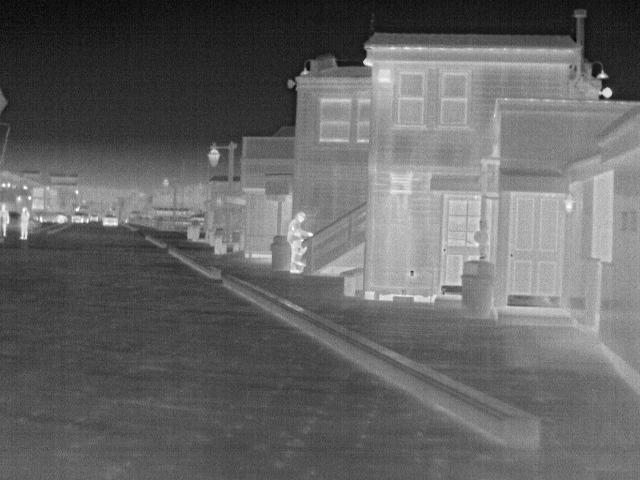car: (32, 208, 68, 226), (69, 211, 91, 225), (101, 212, 121, 227)
person: (287, 211, 313, 273), (17, 203, 34, 240), (0, 200, 12, 236)
